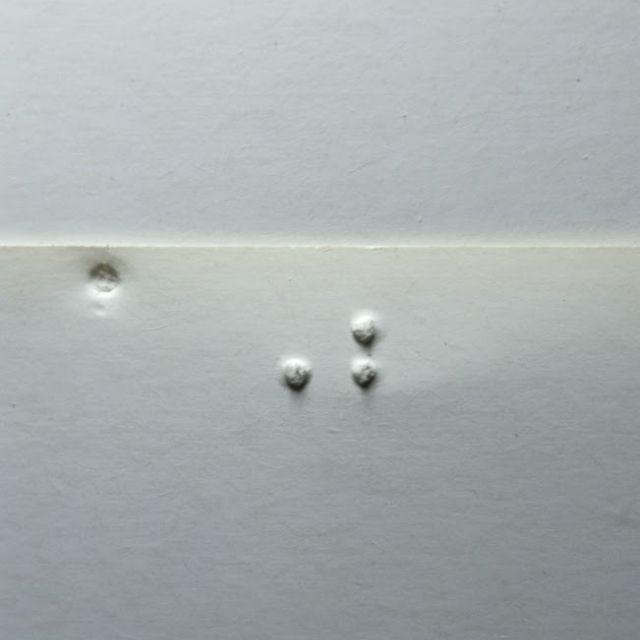binata: (353, 315, 416, 425)
dot_5: (251, 314, 315, 425)
